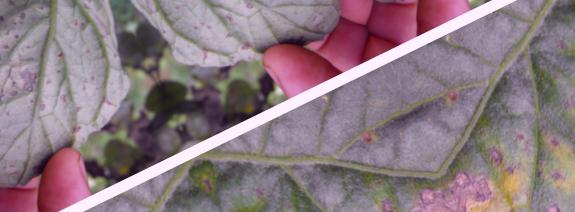Tomato Septoria leaf spot: (206, 80, 499, 212), (86, 0, 365, 122)
